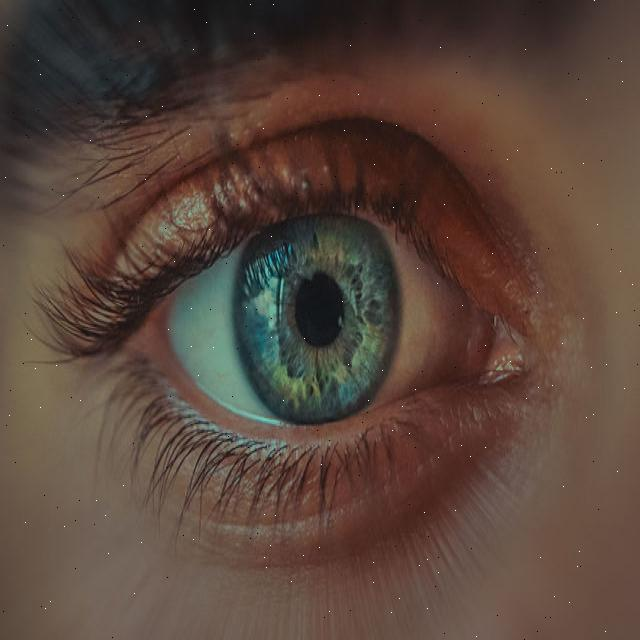Normal: (234, 186, 402, 430)
